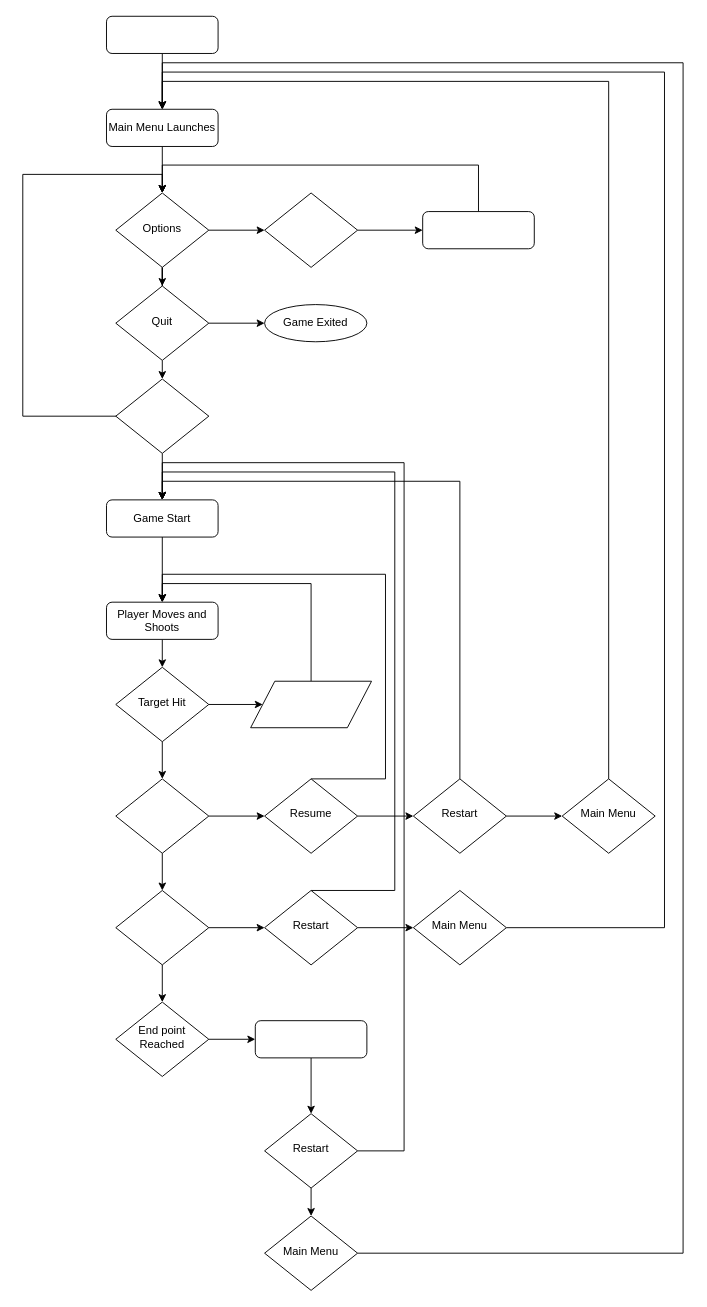
The diagram is 707 pixels wide and 1307 high, and some of its shapes have lost their labels. Here are the shapes that lost their labels. From the top down, the box of each, then its label:
(106, 15, 218, 53): Launch Game
(264, 192, 358, 267): Change Volume
(422, 211, 534, 249): Voulme Changes
(115, 378, 209, 453): Play
(250, 680, 372, 728): Add Score
(115, 778, 209, 853): Pause
(115, 890, 209, 965): Player Fell
(254, 1020, 367, 1058): Upload Score
